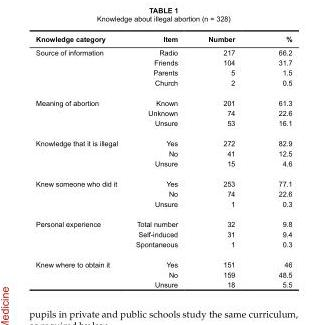table: (35, 34, 291, 287)
table column: (35, 34, 126, 287), (126, 34, 192, 287), (192, 34, 255, 287), (255, 34, 291, 287)
table column header: (35, 34, 291, 45)
table row: (35, 157, 291, 173), (35, 253, 291, 269), (35, 77, 291, 92), (35, 92, 291, 107), (35, 117, 291, 132), (35, 132, 291, 147), (35, 173, 291, 188), (35, 198, 291, 213), (35, 213, 291, 228), (35, 238, 291, 253), (35, 45, 291, 57), (35, 34, 291, 45), (35, 57, 291, 67), (35, 67, 291, 77), (35, 107, 291, 117), (35, 147, 291, 157), (35, 188, 291, 198), (35, 228, 291, 238), (35, 269, 291, 279), (35, 279, 291, 287)
table spanning cell: (35, 45, 126, 92), (35, 132, 126, 173), (35, 92, 126, 132), (35, 173, 126, 213), (35, 213, 126, 253), (35, 253, 126, 287)
